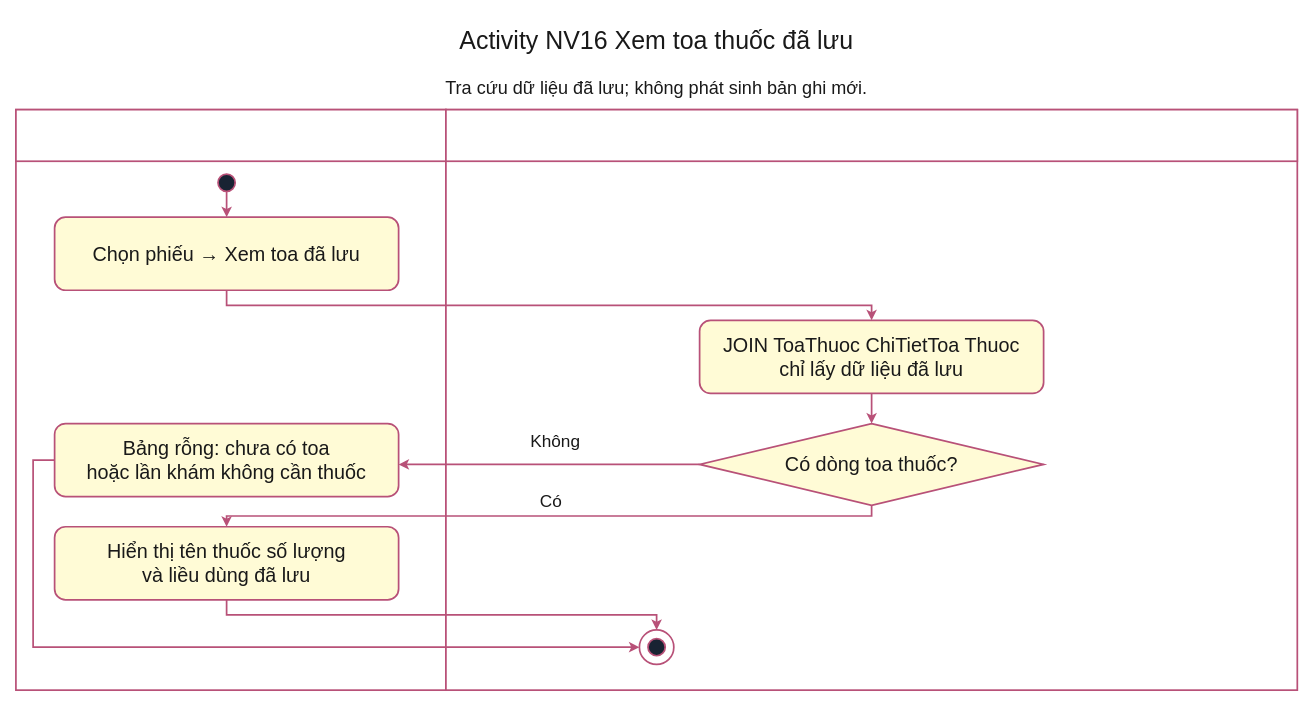
This 1312x705 diagram has some shape labels left out. Here are the shapes that lost their labels. From the top down, the centre of each, then its label:
At (230,135): "Bác sĩ".
At (871,135): "Ứng dụng và SQL Server".
